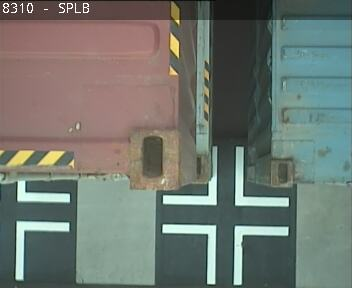groundmarker_1: (162, 146, 289, 206), (161, 224, 288, 284), (12, 181, 70, 280)
